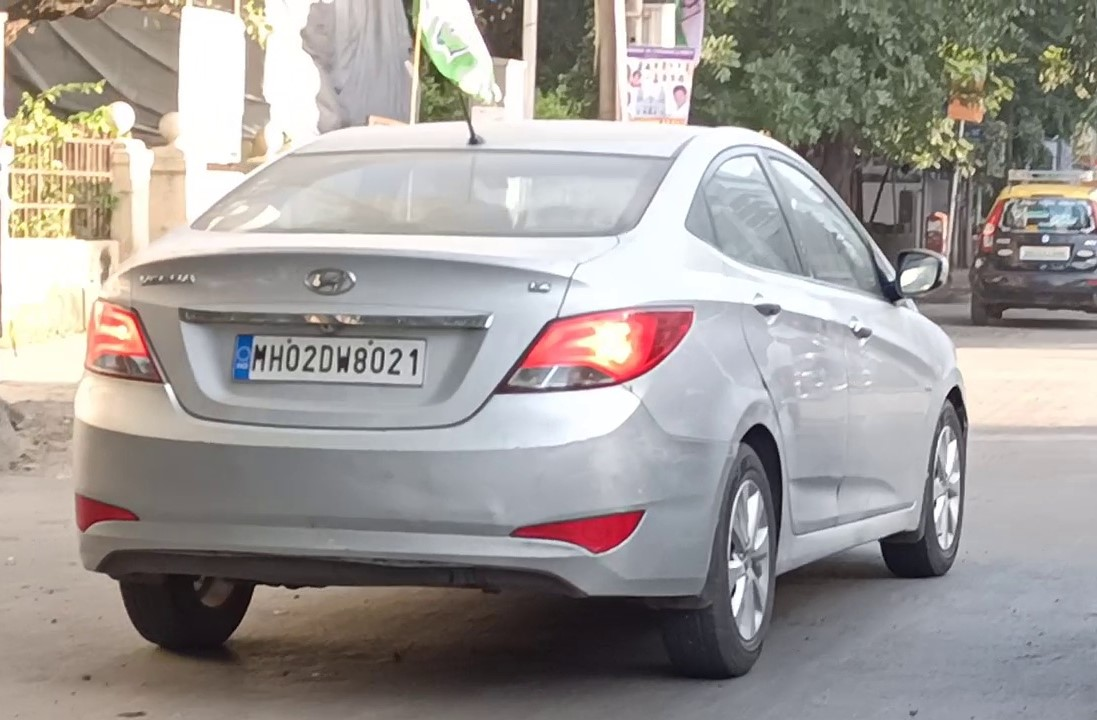MH02DW8021: (232, 336, 425, 386)
